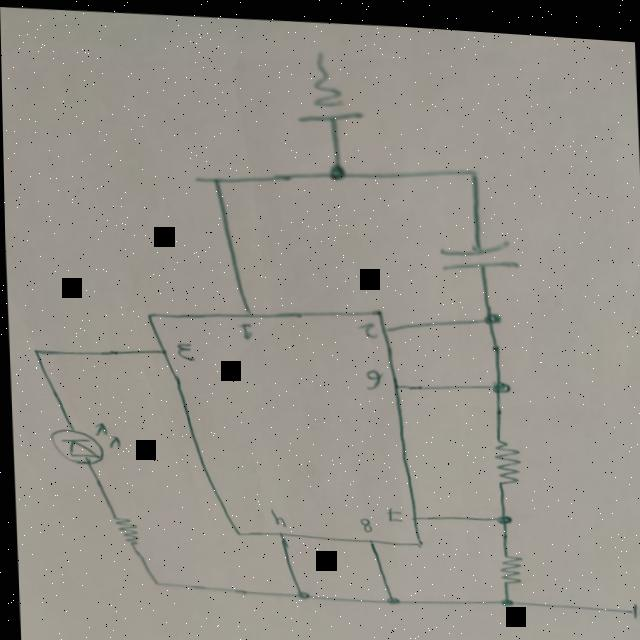capacitor: (429, 227, 522, 276)
diode: (41, 413, 123, 471)
ground: (295, 47, 362, 124)
junction: (321, 157, 347, 179), (478, 303, 502, 325), (486, 370, 510, 391), (461, 157, 482, 179), (205, 167, 224, 187), (144, 572, 162, 590), (492, 503, 510, 520), (380, 587, 399, 602), (27, 343, 44, 359), (497, 586, 512, 603), (293, 582, 306, 598)
resistor: (488, 428, 521, 482), (491, 539, 522, 580), (109, 512, 140, 547)
source: (624, 591, 640, 612)
text: (173, 336, 195, 361), (362, 361, 382, 387), (264, 502, 284, 524), (359, 316, 376, 337), (237, 318, 252, 339), (382, 502, 397, 519), (355, 513, 370, 530)
